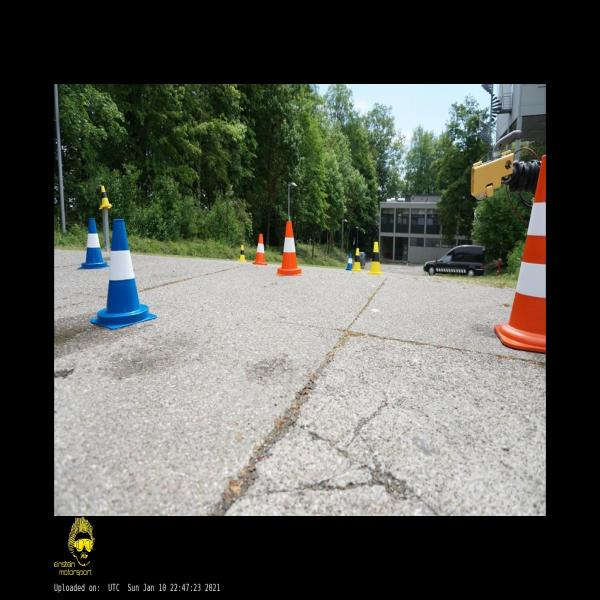blue_cone: (90, 219, 157, 330), (77, 218, 110, 269), (346, 253, 352, 270)
large_orange_cone: (494, 155, 546, 354)
orange_cone: (277, 221, 301, 276), (252, 234, 268, 266)
yellow_cone: (368, 242, 383, 275), (99, 186, 112, 210), (351, 248, 363, 272), (238, 245, 246, 262)
